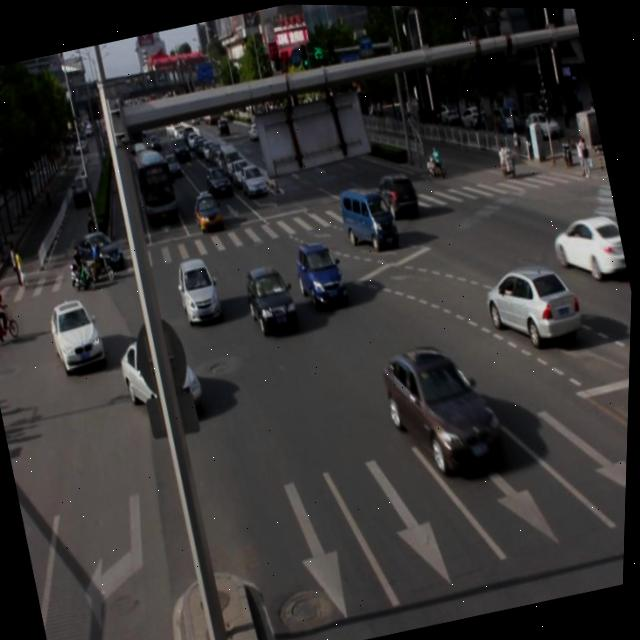car: (378, 330, 512, 485), (480, 252, 586, 351), (115, 325, 208, 423), (547, 204, 630, 286), (46, 292, 111, 376), (242, 259, 303, 338), (294, 236, 353, 311), (172, 252, 227, 328), (372, 166, 421, 218)
truck: (337, 178, 401, 252)
